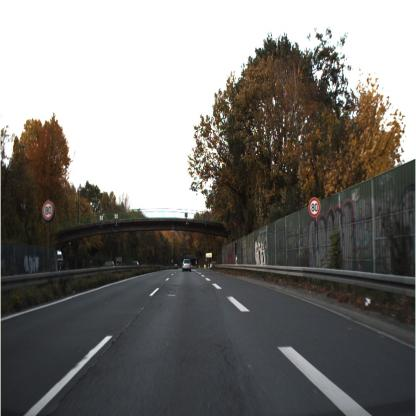speed limit 80: (42, 200, 54, 220), (309, 198, 320, 216)
